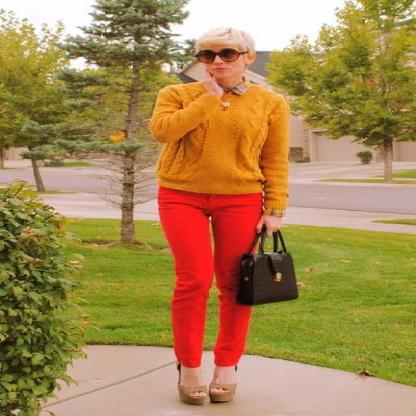bag: (229, 225, 297, 305)
jacket: (149, 83, 289, 218)
pants: (158, 186, 260, 371)
shoe: (179, 382, 236, 405)
sunglass: (196, 48, 238, 62)
